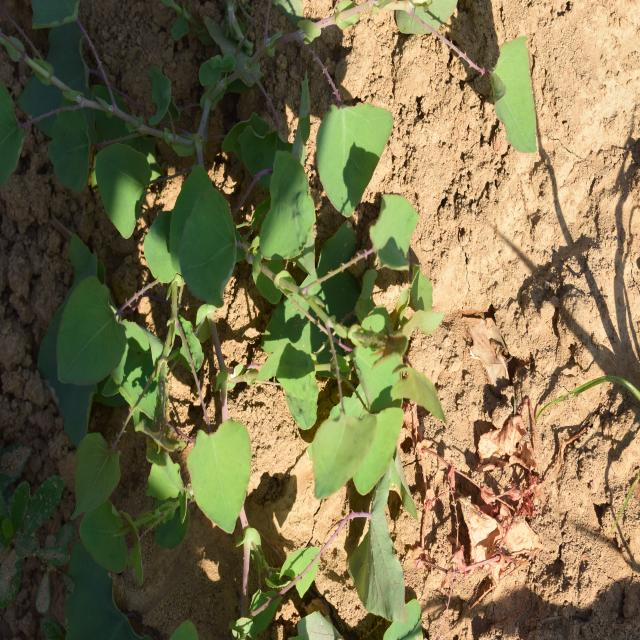Asiatic_Smartweed: (261, 78, 438, 518), (82, 80, 254, 310), (71, 382, 261, 590)
